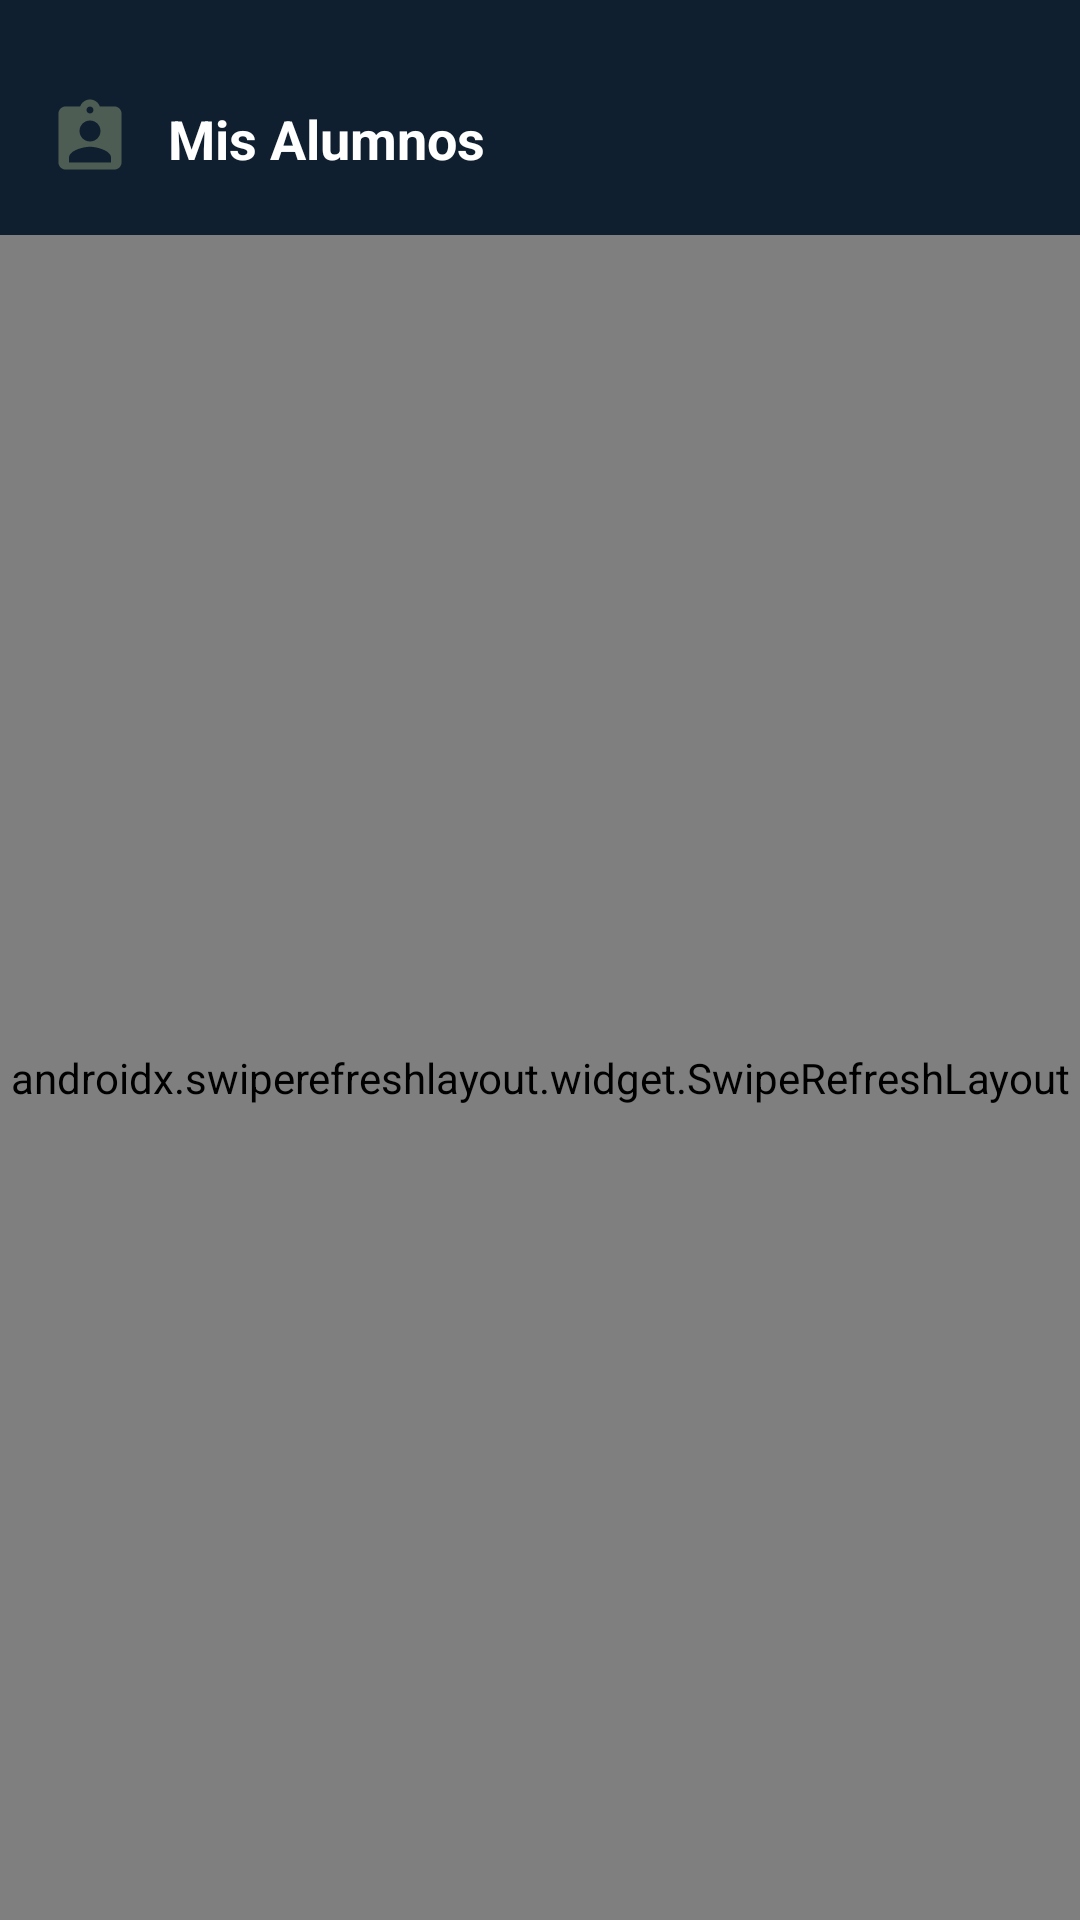

Icon bounding boxes for this 1080x1920 phone screenshot, format box(x1, y1, x2, y2):
students: box(58, 99, 122, 170)
